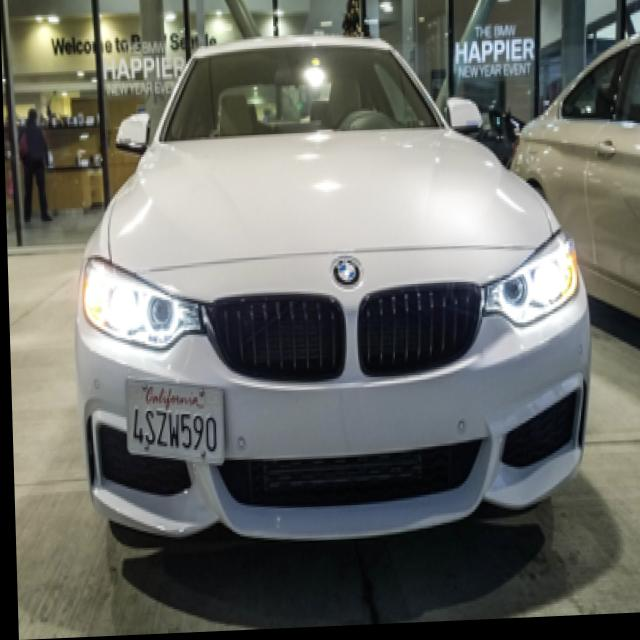licence: (122, 374, 220, 466)
